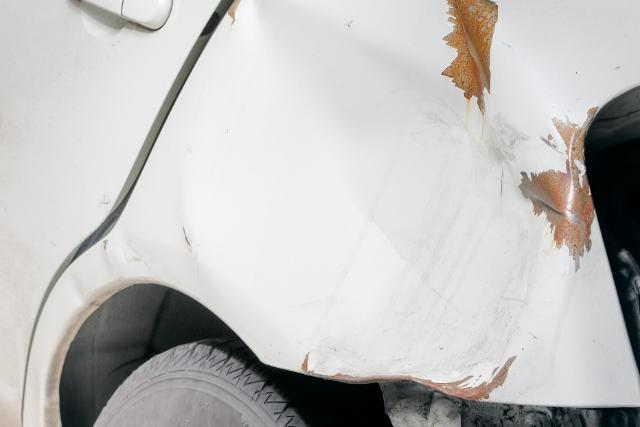Bumper: (221, 0, 640, 427)
